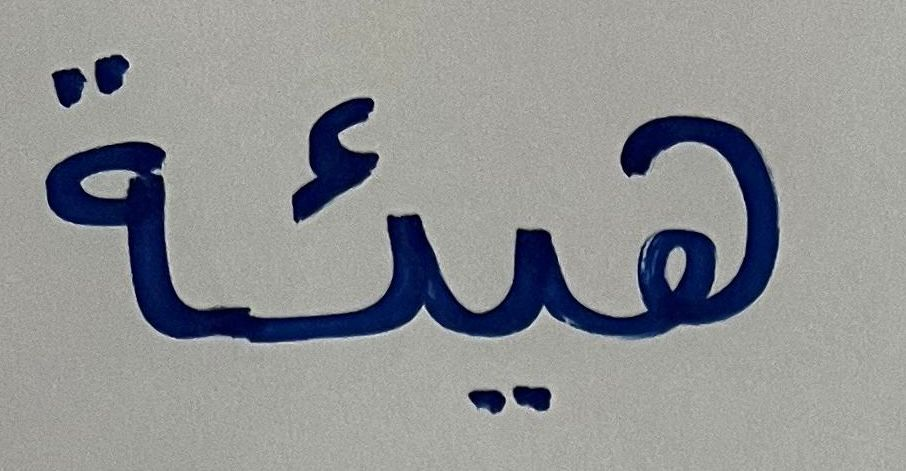hamza: (194, 75, 422, 408)
heh: (579, 81, 839, 387)
teh_marbota: (20, 34, 189, 370)
yeh: (429, 147, 575, 433)
